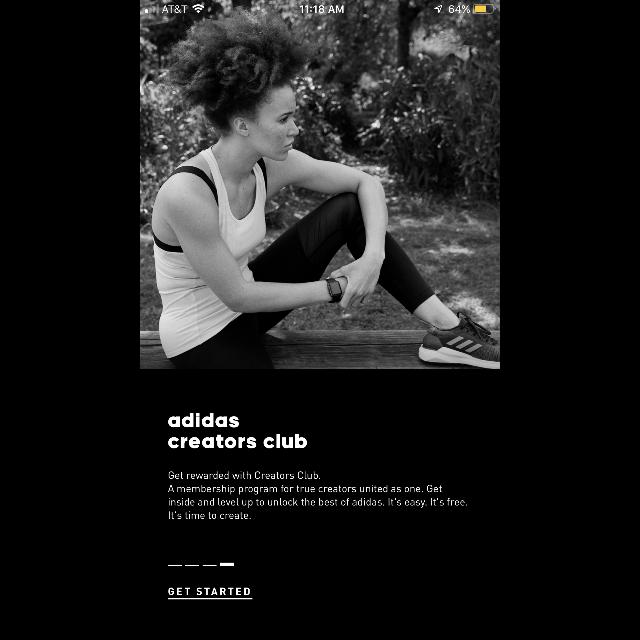image: (140, 1, 500, 369)
pageindicator: (168, 562, 234, 566)
text: (168, 471, 468, 519), (168, 413, 308, 449), (168, 587, 252, 599)
uppertaskbar: (140, 0, 500, 14)
